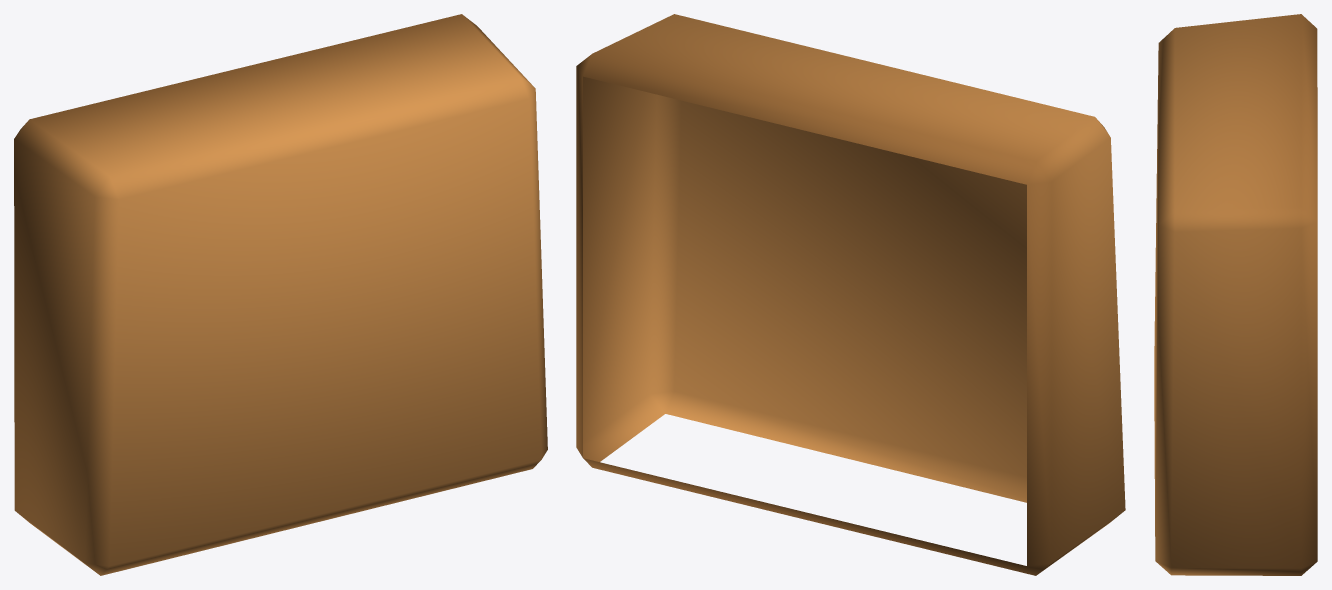
Rendered from block_m1_lo.glb.
3 views of the same model, side by side, from view 1: azimuth 30°, elevation 25°; view 2: azimuth 150°, elevation 25°; view 3: azimuth 270°, elevation 25° (orthographic). The views are drawn at different scales.
Parts seen in each view (by area): view 1: block_m1_lo; view 2: block_m1_lo; view 3: block_m1_lo.
Part boxes in pixels (x1,y1,x2,y2): block_m1_lo: (14,14,547,575); block_m1_lo: (576,14,1125,575); block_m1_lo: (1154,14,1317,575).
Size of the model in its own units: 1.2 by 1 by 0.4012.
